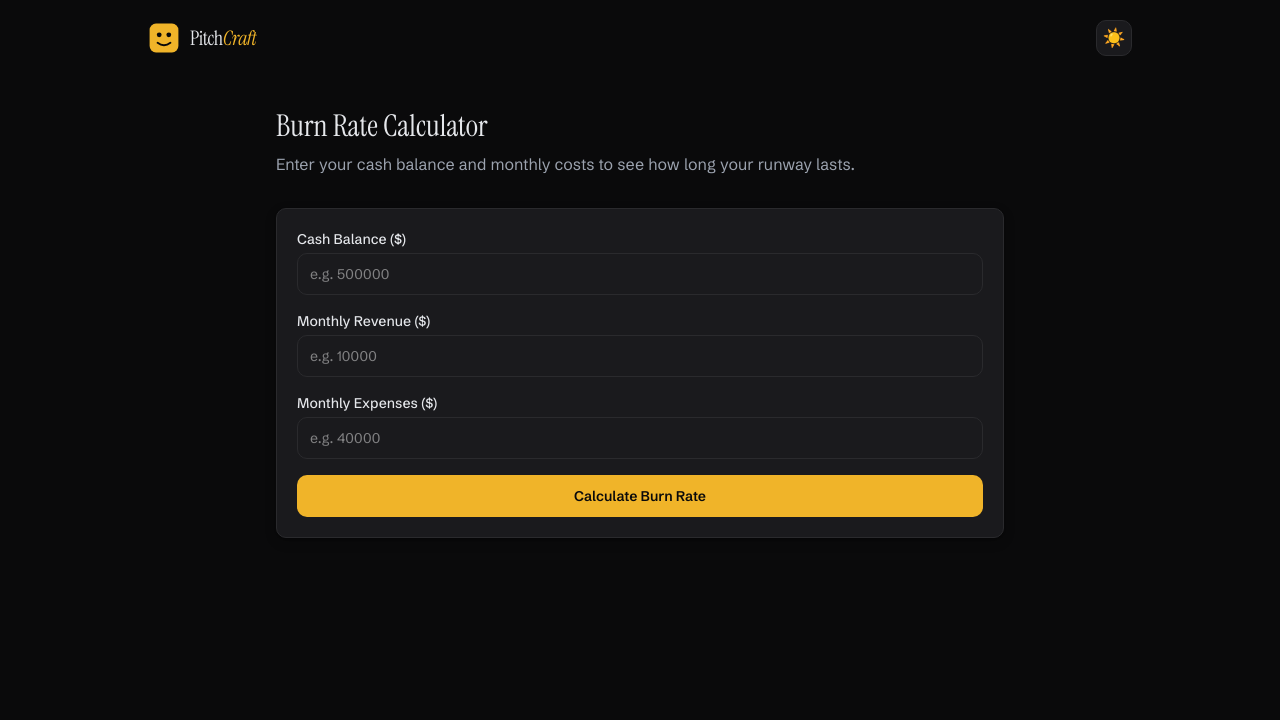
BurnRatePage › shows infinite runway when revenue exceeds expenses
Type "100000" into the number field with placeholder "e.g. 500000" at x=640, y=274, box [297,253,983,295]
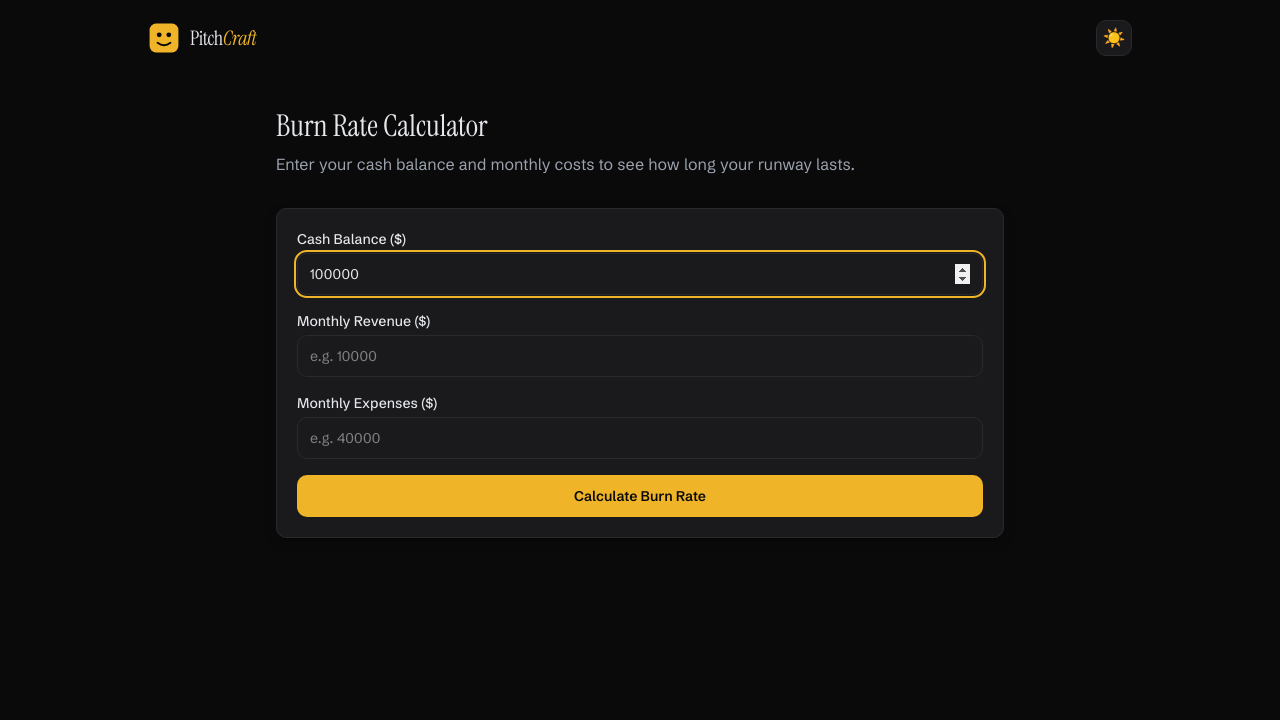
Type "50000" into the number field with placeholder "e.g. 10000" at x=640, y=356, box [297,335,983,377]
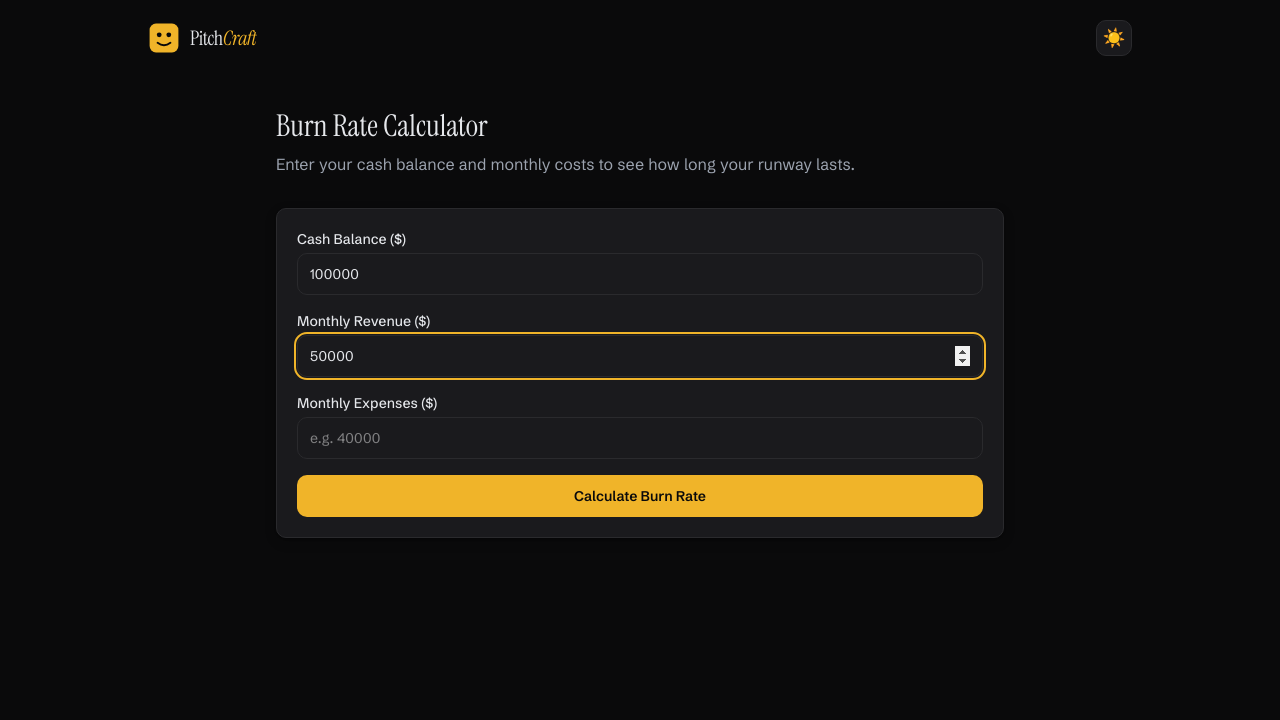
Type "30000" into the number field with placeholder "e.g. 40000" at x=640, y=438, box [297,417,983,459]
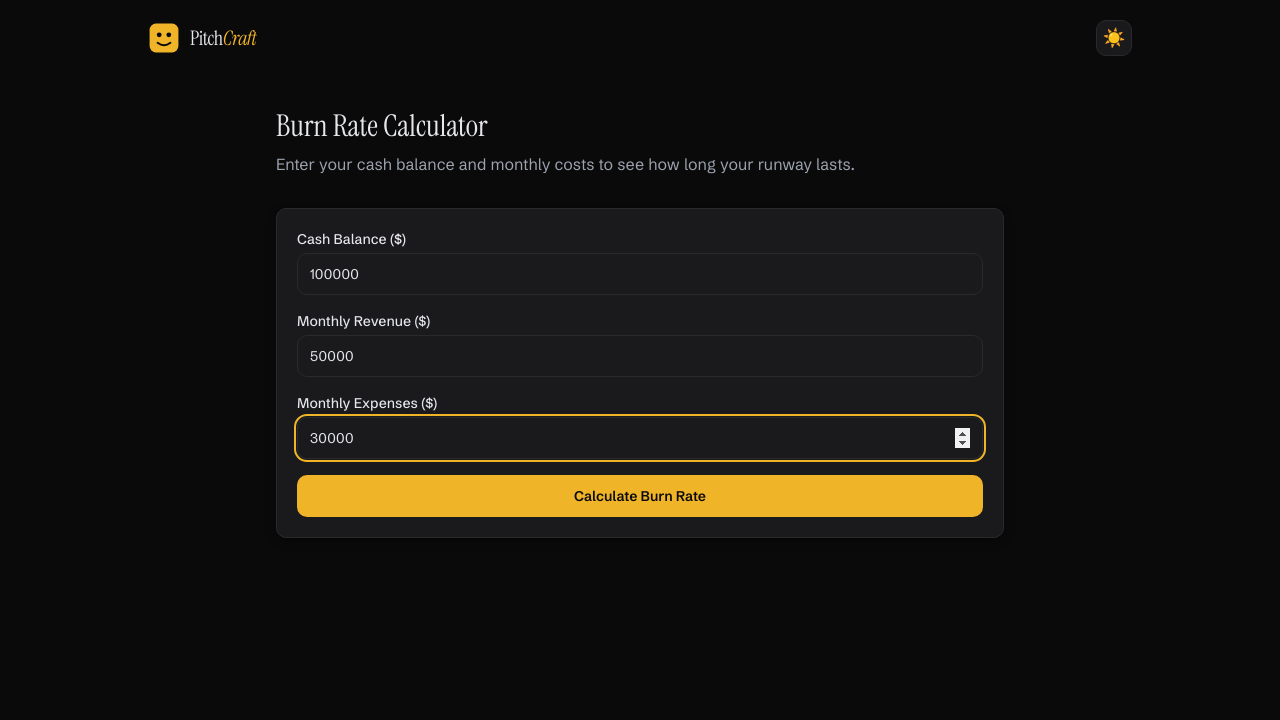
Click the button "Calculate Burn Rate" at x=640, y=496, box [297,475,983,517]
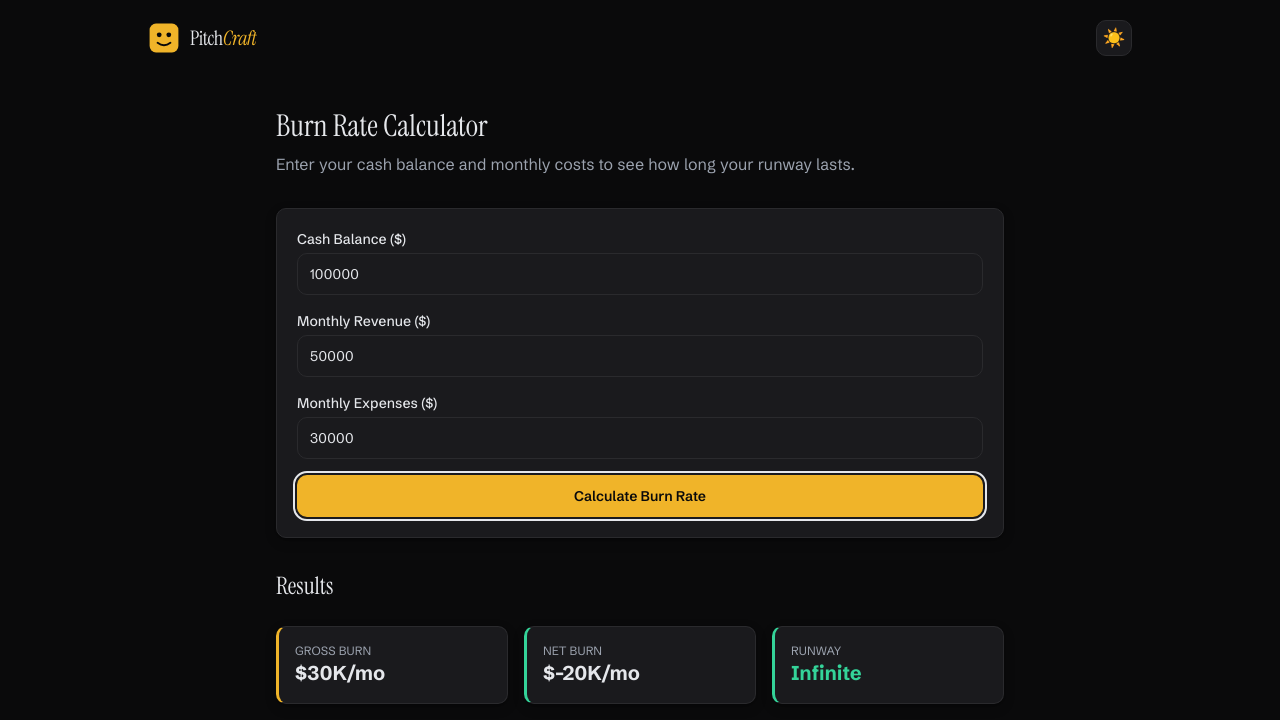
Expected: the text "Infinite" is shown, [791,660,862,685]
